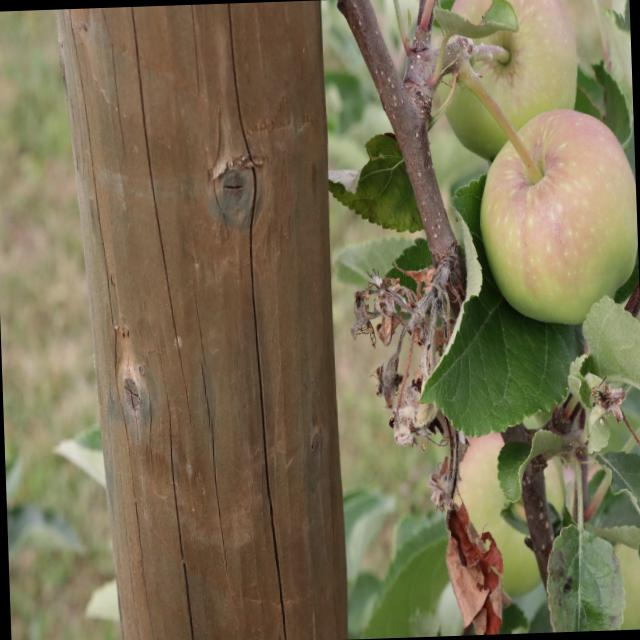-FireBlight-: (400, 392, 508, 637), (351, 269, 458, 373)
